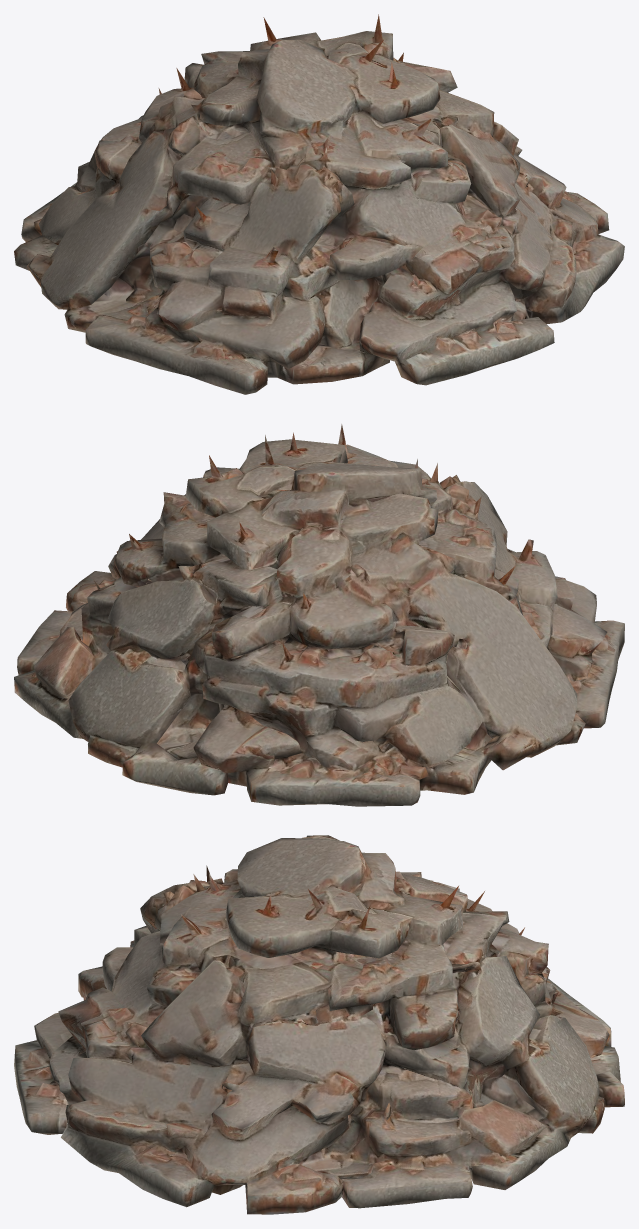
The model's file is Prop_Rubble.glb.
3 renders of one model, top to bottom at view 1: azimuth 30°, elevation 25°; view 2: azimuth 150°, elevation 25°; view 3: azimuth 270°, elevation 25°, orthographic. The views are drawn at different scales.
Parts seen in each view (by area): view 1: texture_mapping; view 2: texture_mapping; view 3: texture_mapping.
Boxes of the visible parts, box(x1,y1,x2,y2) form: texture_mapping: box(14, 14, 624, 394); texture_mapping: box(14, 424, 624, 806); texture_mapping: box(14, 835, 624, 1214).
Bounding box in the file's own units: 1 × 0.4189 × 0.9992.
Materials: 1 (1 with a texture image).
